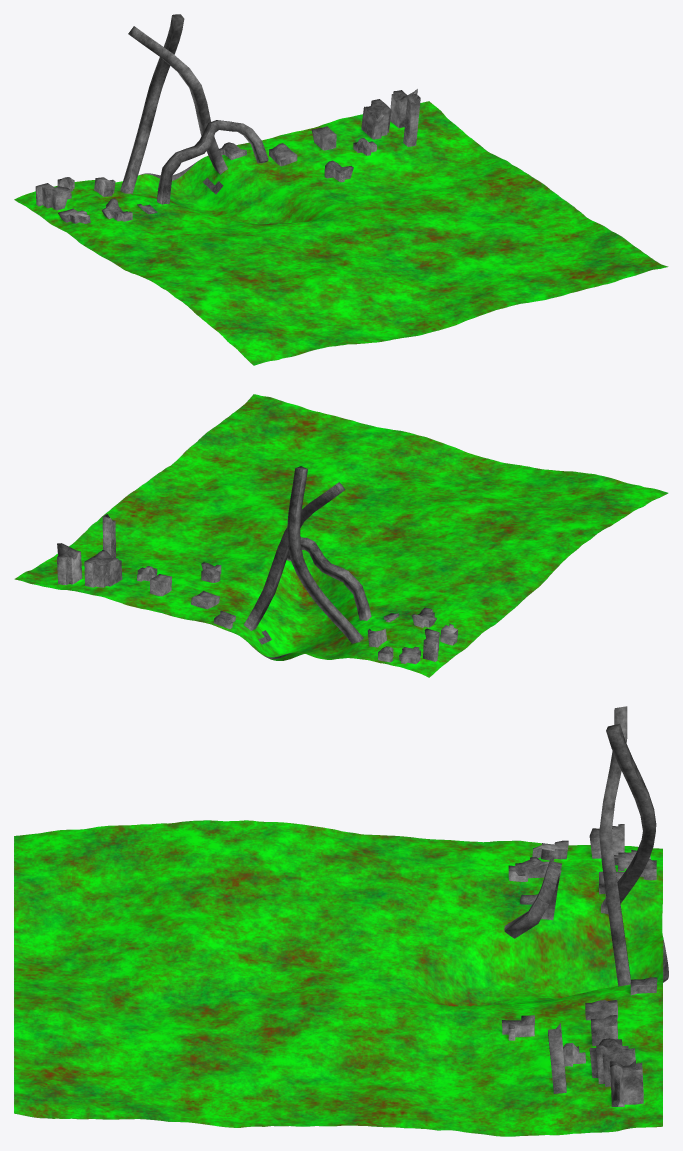
File: Ground.fbx
The picture shows the model from 3 angles, top to bottom: view 1: azimuth 30°, elevation 25°; view 2: azimuth 150°, elevation 25°; view 3: azimuth 270°, elevation 25°; orthographic projection. The views are drawn at different scales.
Parts seen in each view (by area): view 1: Plane; view 2: Plane; view 3: Plane.
Part boxes in pixels (x1=…): Plane: x1=14, y1=14, x2=668, y2=365; Plane: x1=14, y1=394, x2=668, y2=677; Plane: x1=14, y1=706, x2=668, y2=1136.
Bounding box in the file's own units: 2000 × 884 × 2018.
1 material, 1 textured.
